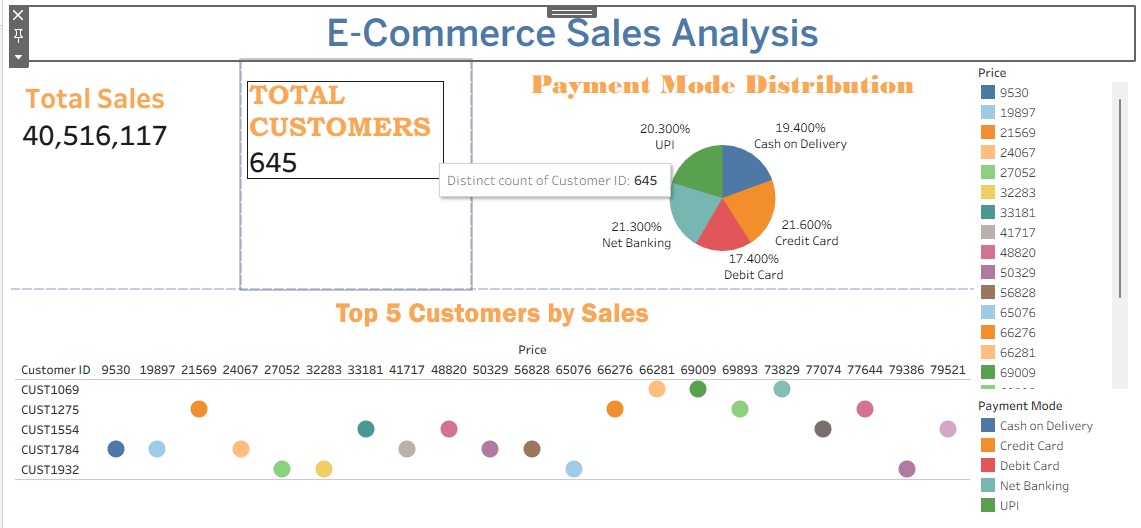

This screenshot's page, from the dashboard's own definition file:
{"tool":"tableau","page":{"name":"Dashboard 1","canvas":[1000,1000],"units":"permille","ordinal":0},"visuals":[{"type":"title","box":[7,15.2,986,100.4]},{"type":"worksheet","title":"Sheet 2","mark":"Automatic","box":[7,115.5,201.7,434.6]},{"type":"worksheet","title":"Sheet 4","mark":"Automatic","box":[208.8,115.5,201.7,434.6]},{"type":"worksheet","title":"Sheet 6","mark":"Pie","box":[410.5,115.5,442,434.6]},{"type":"legend","title":"Sheet 7","param":"[federated.0xcjsfk0z0kvfe10pzn6f1iiynx6].[none:Price:ok]","box":[852.5,115.5,140.5,630.7]},{"type":"worksheet","title":"Sheet 7","mark":"Circle","rows":["Customer_ID"],"cols":["Price"],"box":[7,550.2,845.5,434.7]},{"type":"legend","title":"Sheet 6","param":"[federated.0xcjsfk0z0kvfe10pzn6f1iiynx6].[none:Payment_Mode:nk]","box":[852.5,746.2,140.5,238.6]}]}

Visuals, with their boxes on the dashboard's canvas, which has no fixed pixel size, in thousandths of its width and height (x1, y1, x2, y2). These are canvas units, not pixel positions in the 1141x528 screenshot, which may show the page scaled, cropped or inside an application window:
title: 7, 15, 993, 116
"Sheet 2" worksheet: 7, 116, 209, 550
"Sheet 4" worksheet: 209, 116, 410, 550
"Sheet 6" worksheet (Pie marks): 410, 116, 852, 550
"Sheet 7" legend: 852, 116, 993, 746
"Sheet 7" worksheet (Circle marks): 7, 550, 852, 985
"Sheet 6" legend: 852, 746, 993, 985
